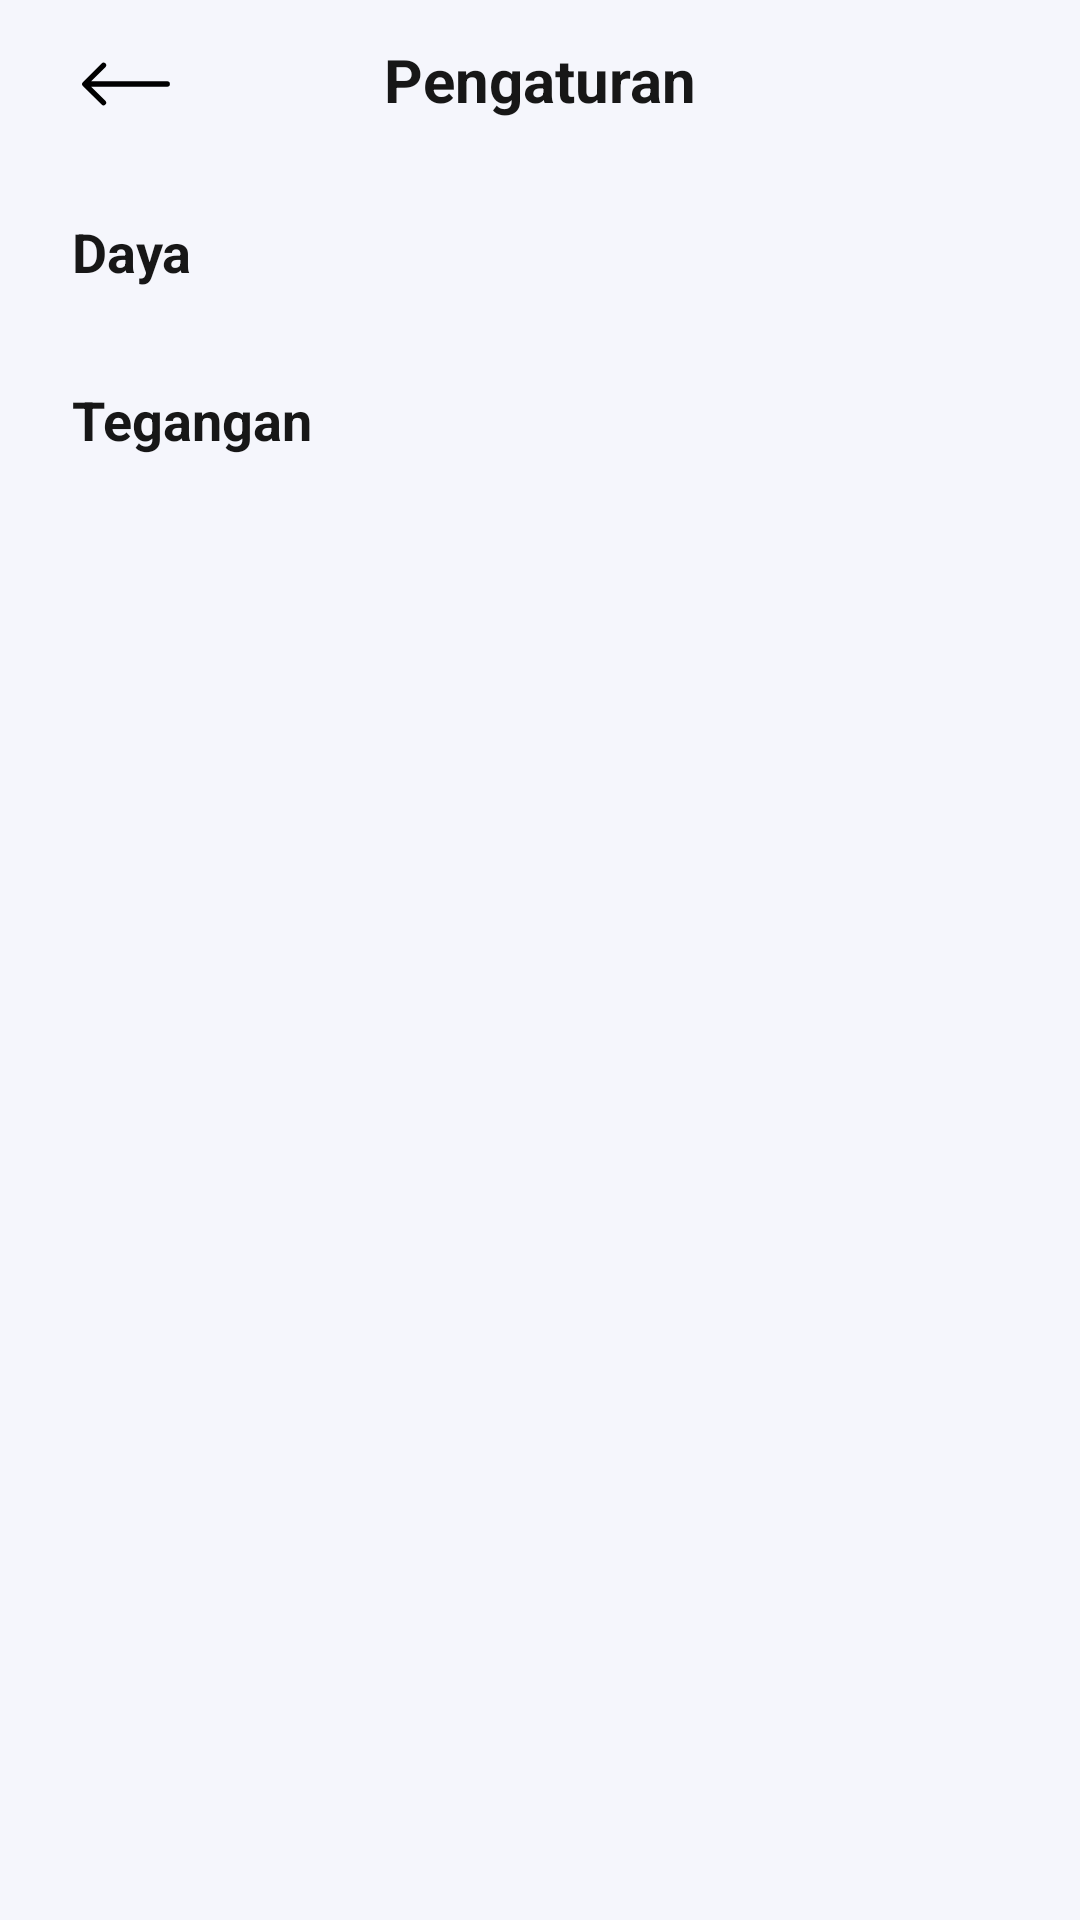

Screen size 1080px x 1920px. Icon name, then its box in pixels as (left=x1, top=y1, right=x2, bottom=y2):
arrow back: (left=82, top=62, right=170, bottom=106)
